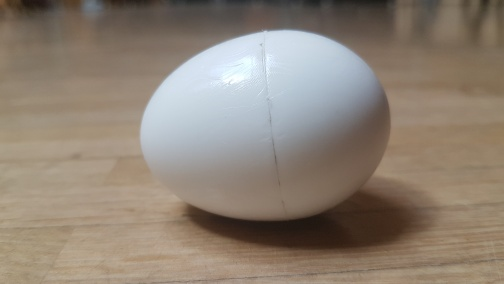egg: (138, 29, 393, 225)
